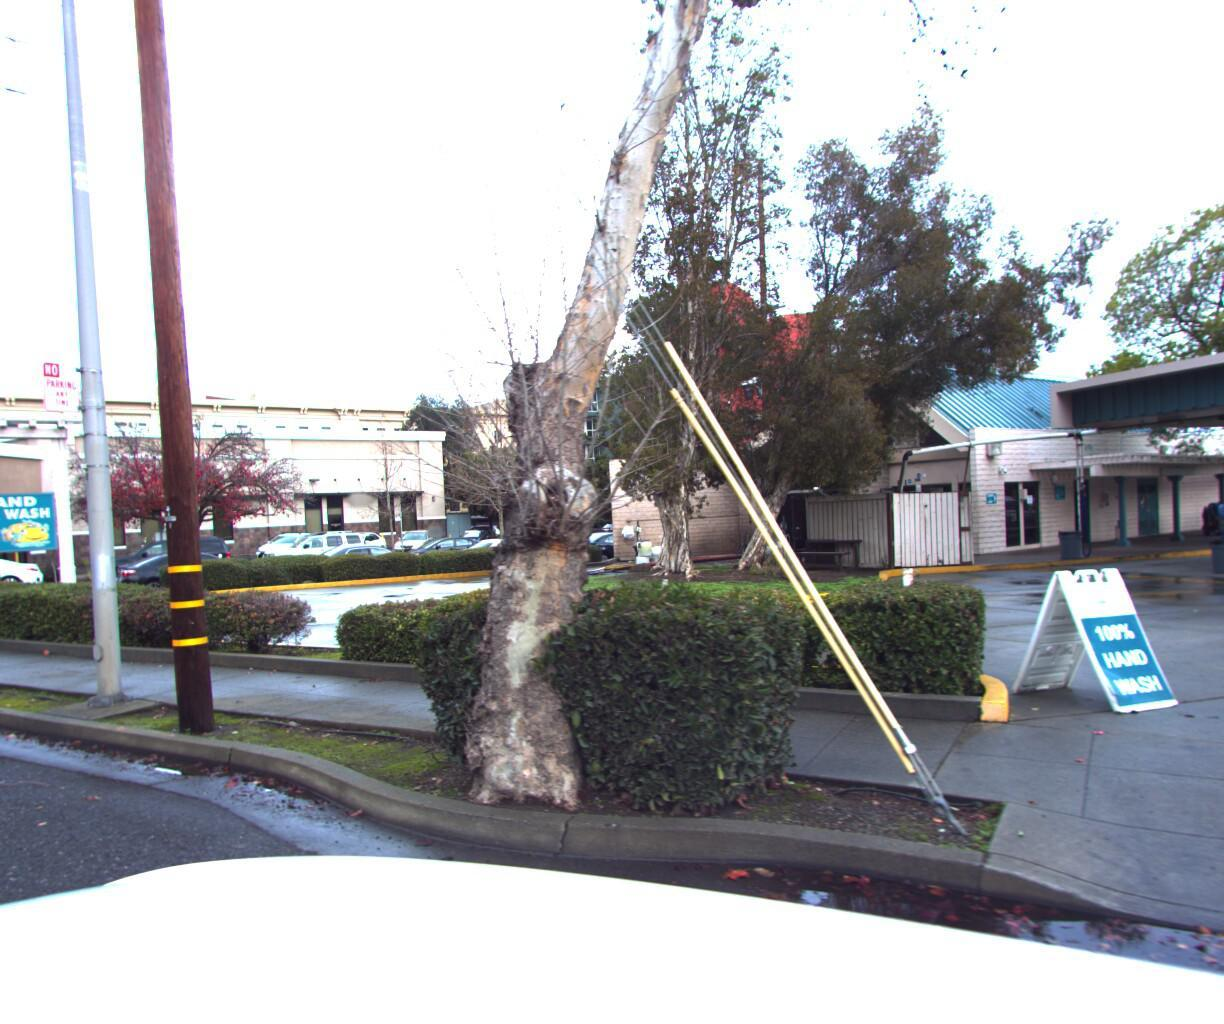car: (111, 545, 276, 603), (91, 534, 237, 590), (255, 527, 373, 579), (446, 533, 562, 577), (250, 529, 333, 567), (0, 553, 51, 604), (323, 531, 389, 565), (388, 528, 446, 561)
